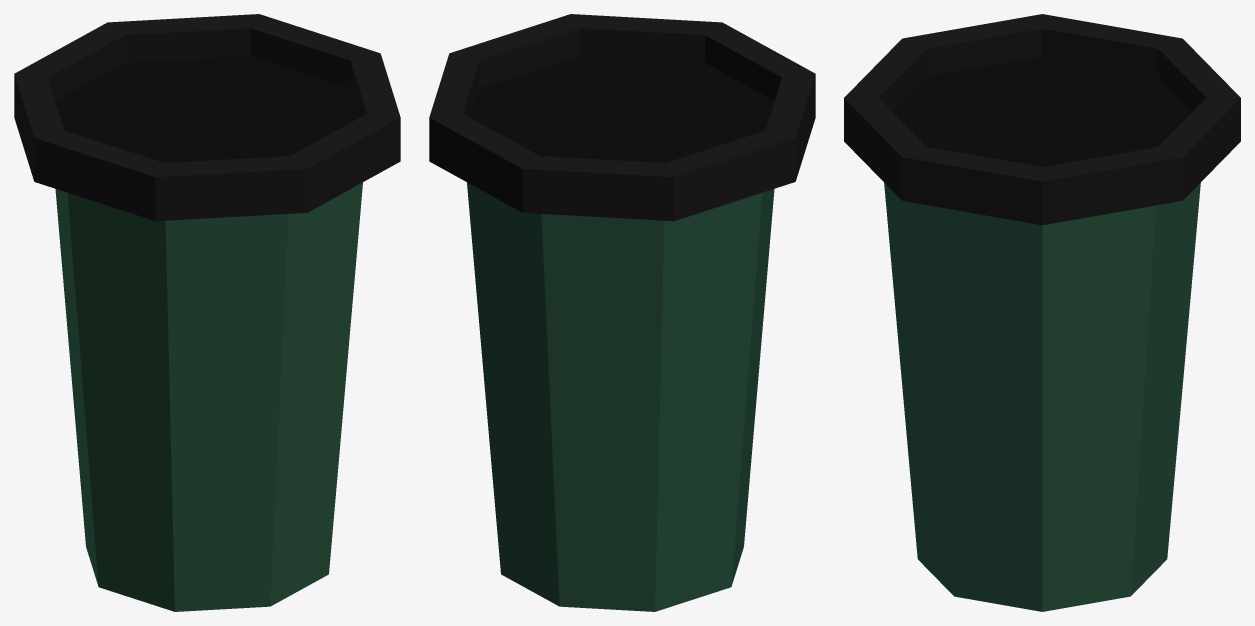
The model's file is TrashCan.fbx.
The picture shows the model from 3 angles, left to right: view 1: azimuth 30°, elevation 25°; view 2: azimuth 150°, elevation 25°; view 3: azimuth 270°, elevation 25°; orthographic projection.
Visible parts, largest first — view 1: TrashCan; view 2: TrashCan; view 3: TrashCan.
Boxes of the visible parts, bbox=[...] form: TrashCan: bbox=[14, 14, 400, 611]; TrashCan: bbox=[429, 14, 815, 611]; TrashCan: bbox=[844, 14, 1240, 611].
Bounding box in the file's own units: 245 × 314 × 245.
